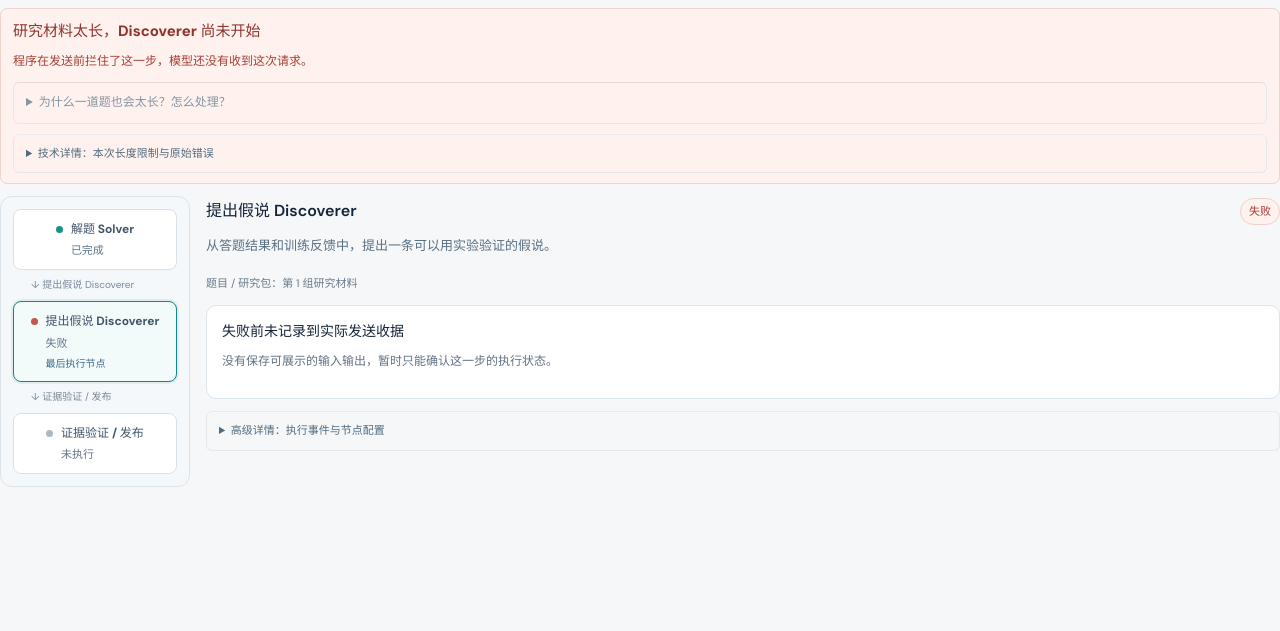
Scenario: shows terminal failure and absence of IO, then readable actual solver input/output
Expected: the heading "失败前未记录到实际发送收据" is shown, [222, 322, 404, 340]
What coordinates should you click on to do the following:
click the button with aria-label "解题 Solver · 已完成"
I would click on:
 (95, 240)
Its box is [13, 209, 177, 270].
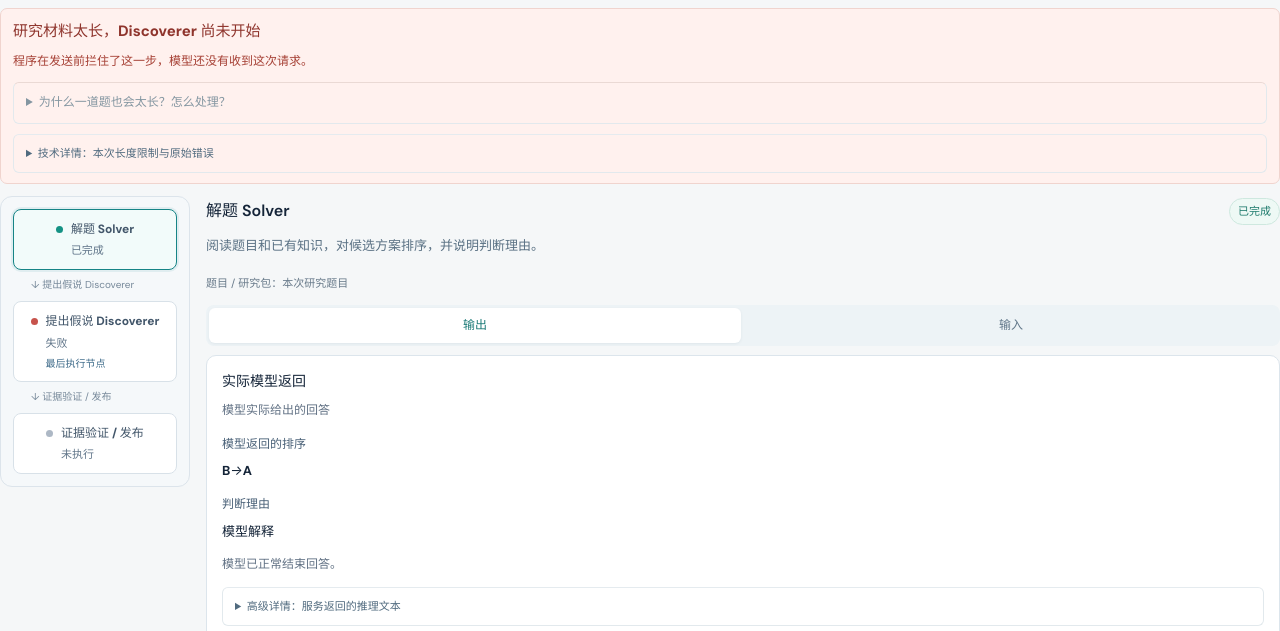
Now the text "模型解释" is shown, box [222, 523, 274, 540]
Now the text "B" is shown, box [222, 462, 230, 479]
Now the text "A" is shown, box [243, 462, 252, 479]
What coordinates should you click on to do the following:
click the tab "输入"
I would click on:
 (1011, 325)
Its box is [745, 308, 1277, 343].
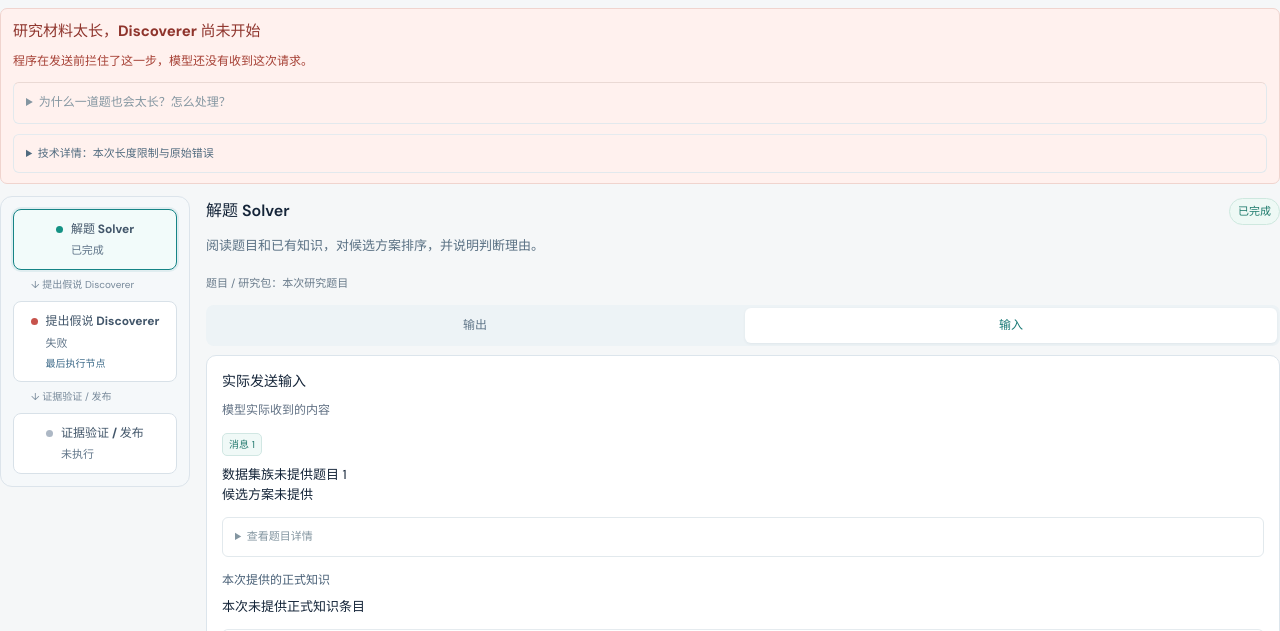
Expected: the text "Public prompt <script>literal</script>" is not shown
What coordinates should you click on to do the following:
click the heading "查看题目详情"
I would click on:
 (280, 536)
Its box is [247, 530, 313, 544].
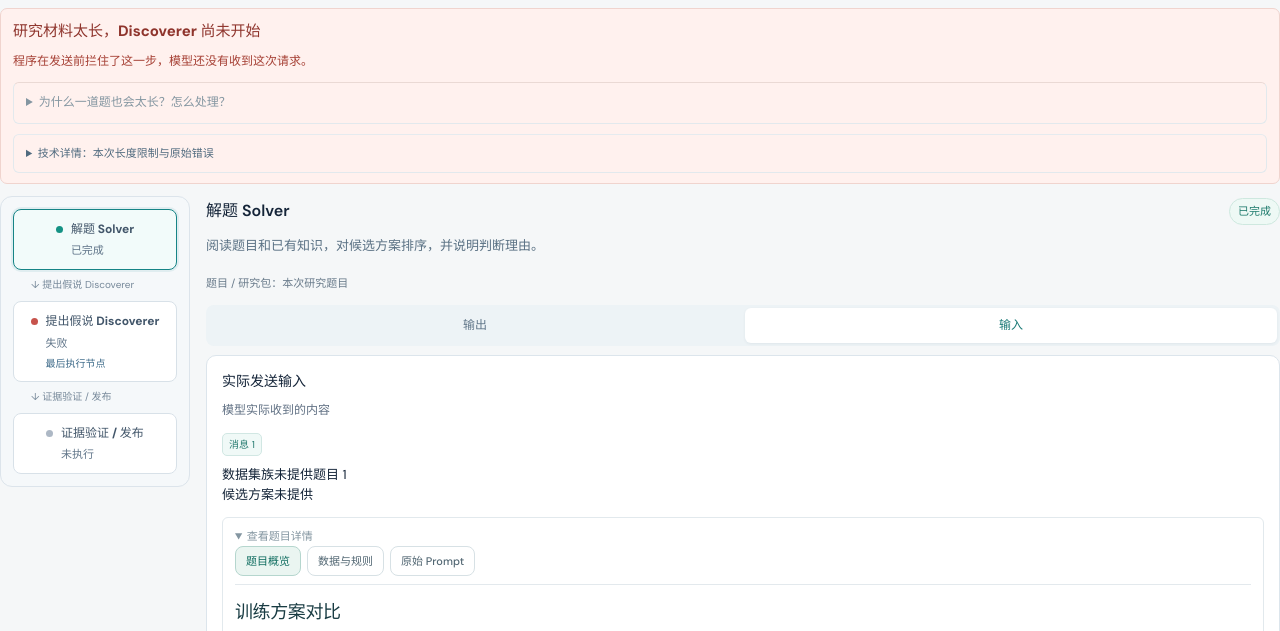
What coordinates should you click on to do the following:
click the tab "原始 Prompt"
I would click on:
 (433, 561)
Its box is [390, 546, 475, 576].
(page scrolled)
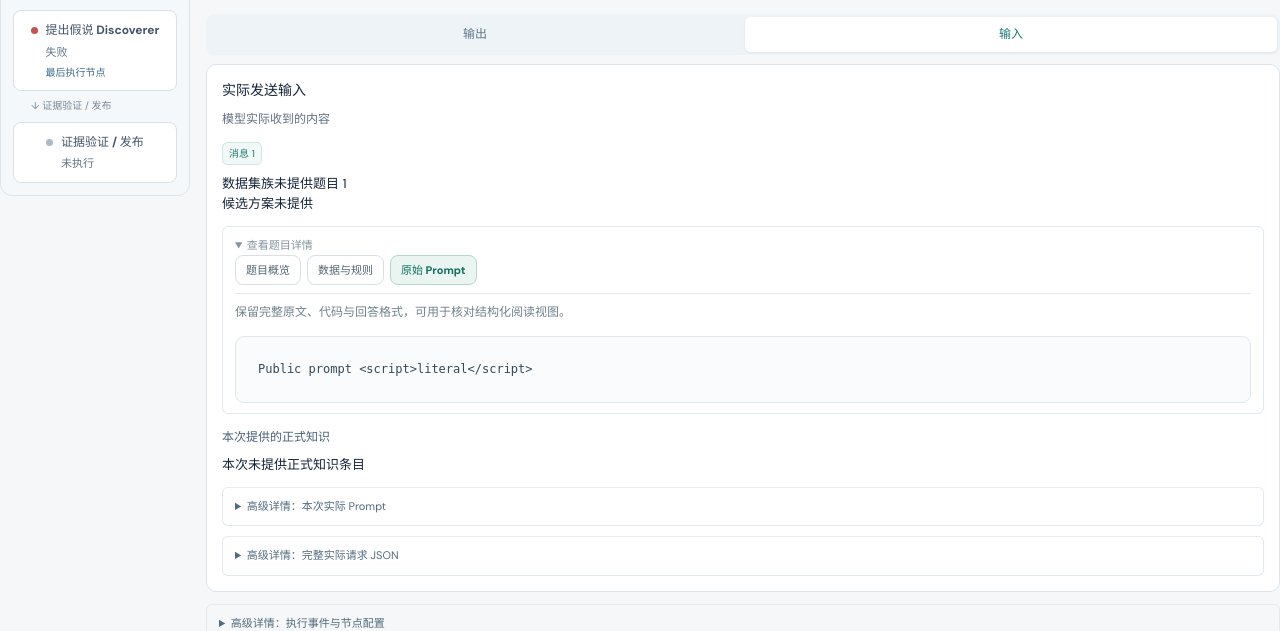
Now the text "Public prompt <script>literal</script>" is shown, box [235, 336, 1251, 403]
